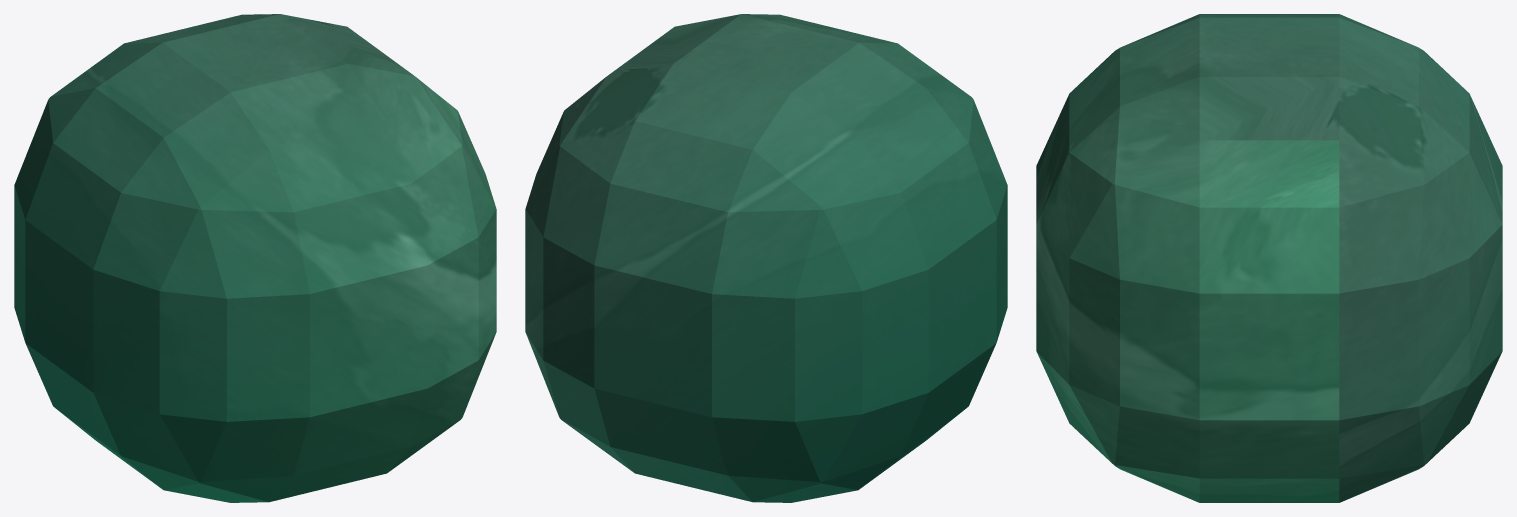
File: Tile1_23.obj
3 renders of one model, left to right at view 1: azimuth 30°, elevation 25°; view 2: azimuth 150°, elevation 25°; view 3: azimuth 270°, elevation 25°, orthographic. The views are drawn at different scales.
Parts seen in each view (by area): view 1: Cube; view 2: Cube; view 3: Cube.
Part boxes in pixels (x1,y1,x2,y2): Cube: (14, 14, 496, 502); Cube: (525, 14, 1007, 502); Cube: (1036, 14, 1502, 502).
Size of the model in its own units: 2 by 2 by 2.
1 material, 1 textured.
